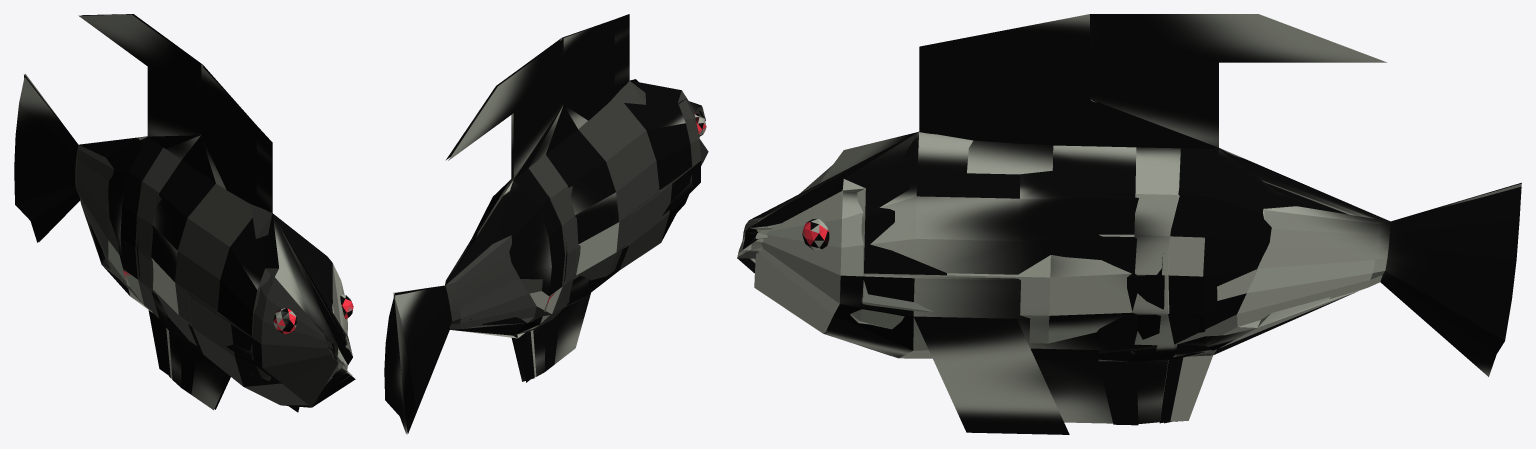
Rendered from pooplid.obj.
The picture shows the model from 3 angles, left to right: view 1: azimuth 30°, elevation 25°; view 2: azimuth 150°, elevation 25°; view 3: azimuth 270°, elevation 25°; orthographic projection. The views are drawn at different scales.
Parts seen in each view (by area): view 1: Plane; view 2: Plane; view 3: Plane.
Boxes of the visible parts, bbox=[...] form: Plane: bbox=[14, 14, 355, 412]; Plane: bbox=[384, 14, 708, 434]; Plane: bbox=[737, 14, 1521, 434].
Size of the model in its own units: 1.36 by 4.85 by 8.4.
